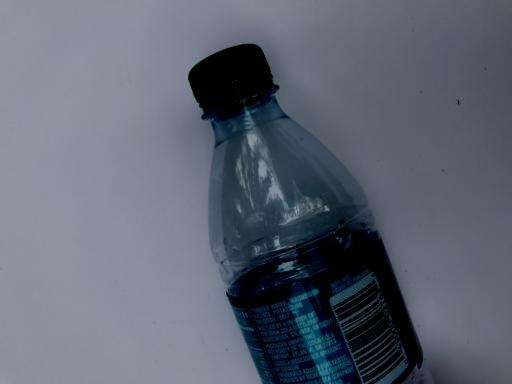bottle: (184, 40, 440, 384)
